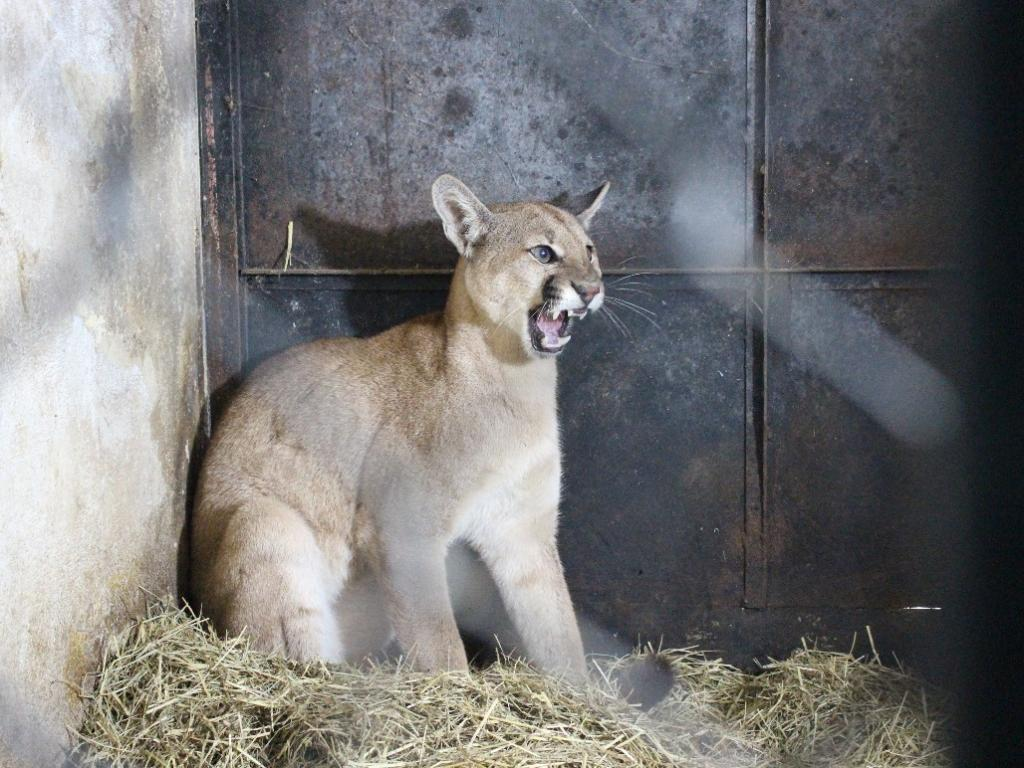OncaParda: (178, 172, 646, 705)
